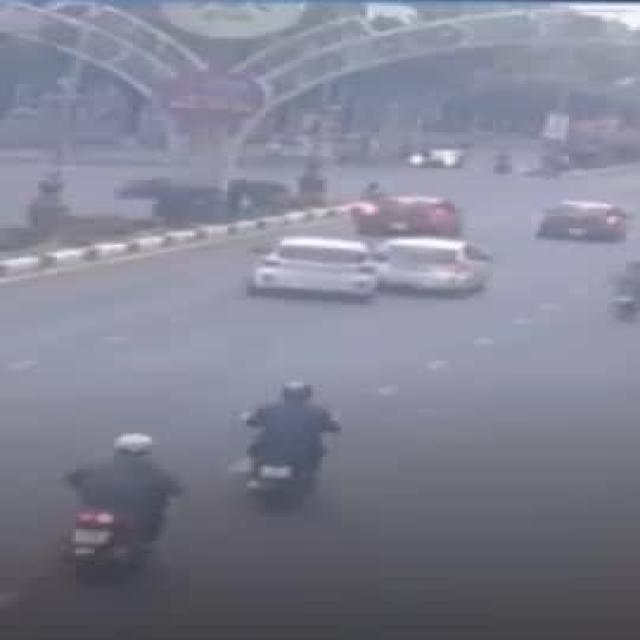multiple_accident: (224, 224, 504, 309)
normal: (34, 397, 193, 584), (207, 361, 341, 531)
